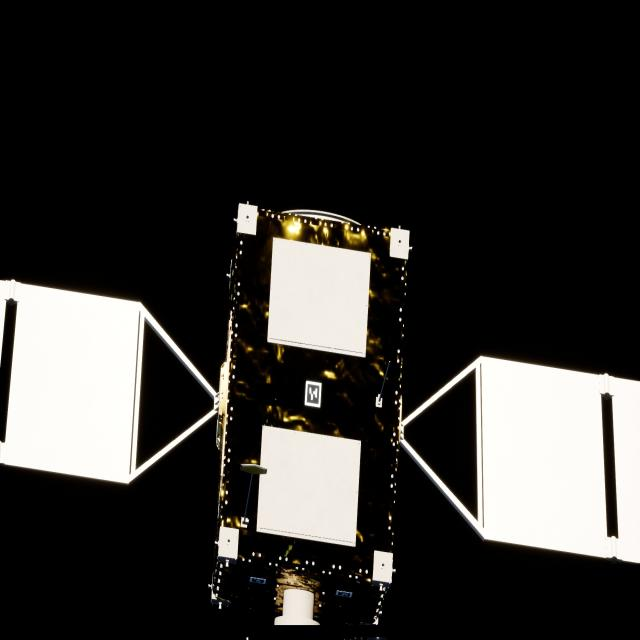medium_debris: (209, 204, 640, 636), (0, 281, 216, 486)
